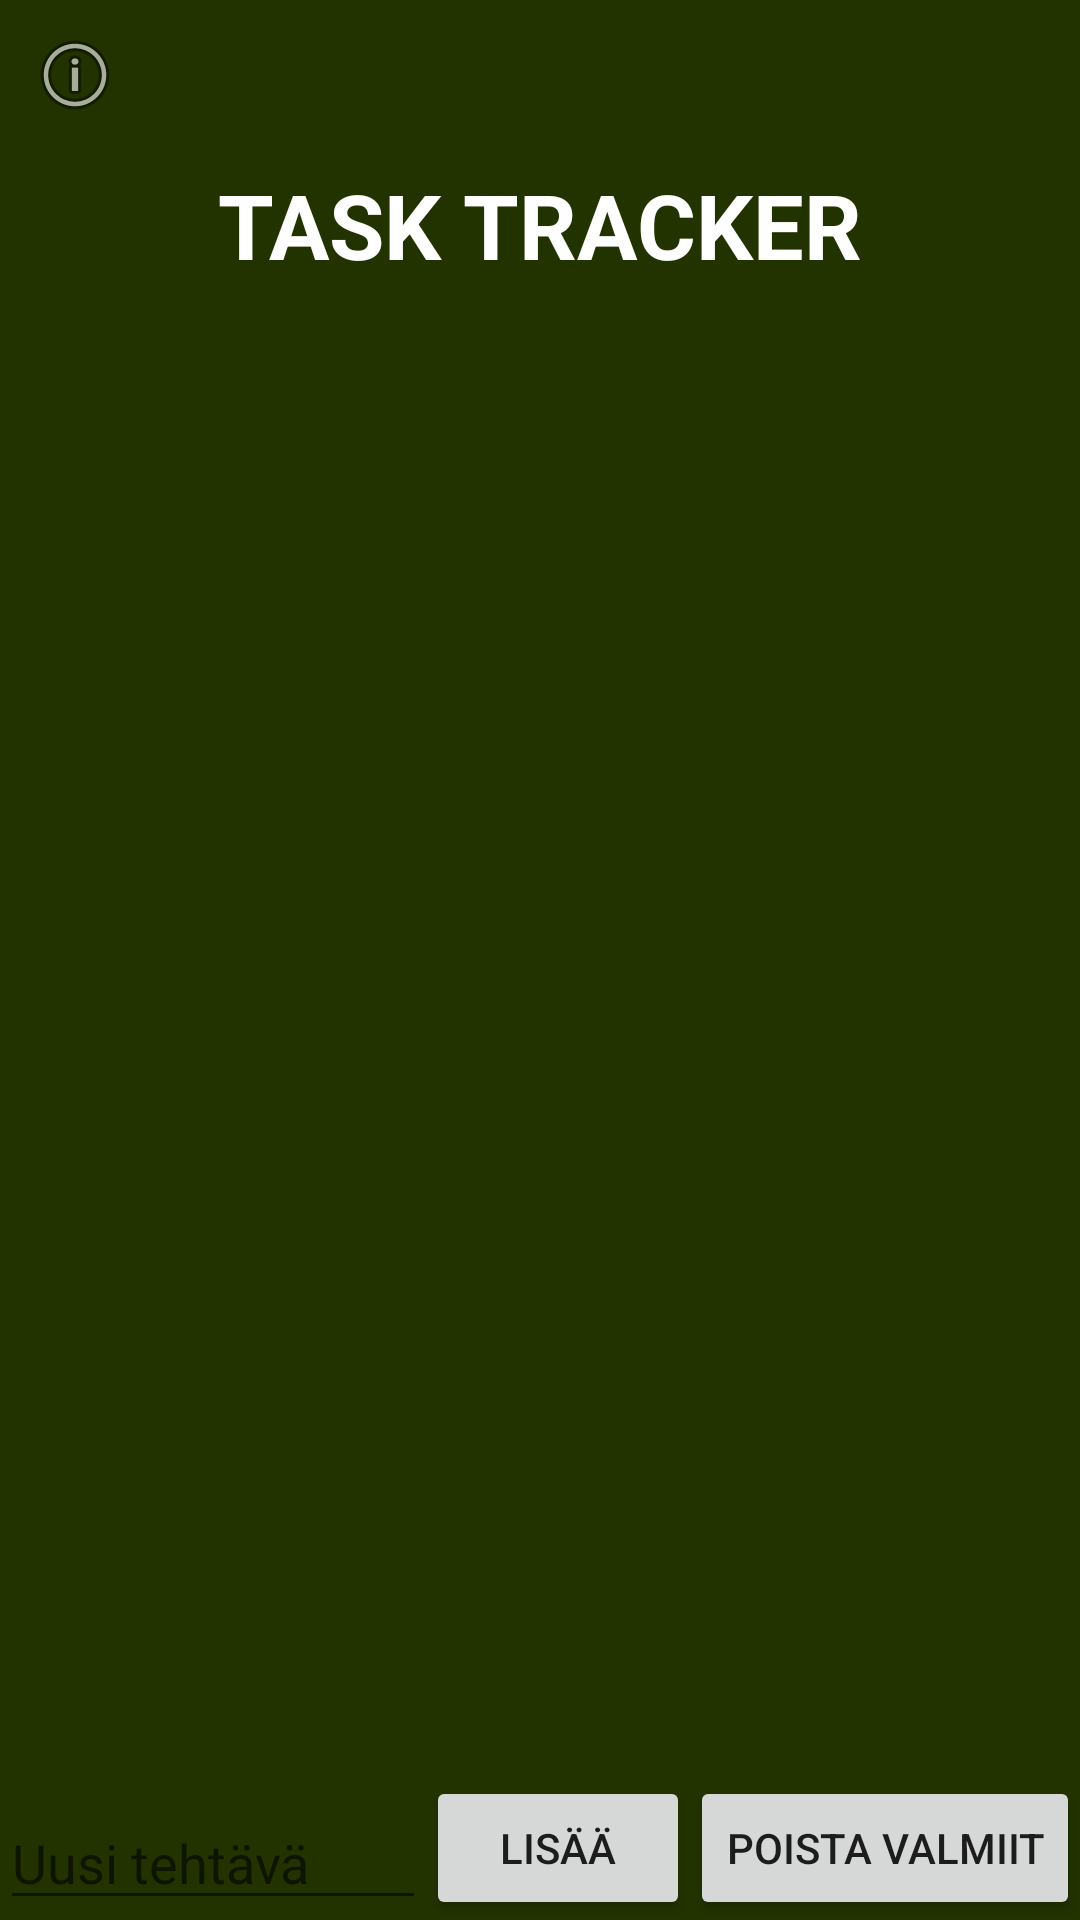

Where icons sit on this 1080 × 1920 app screen, as bbox(x1, y1, x2, y2):
info details: bbox(43, 43, 107, 107)
